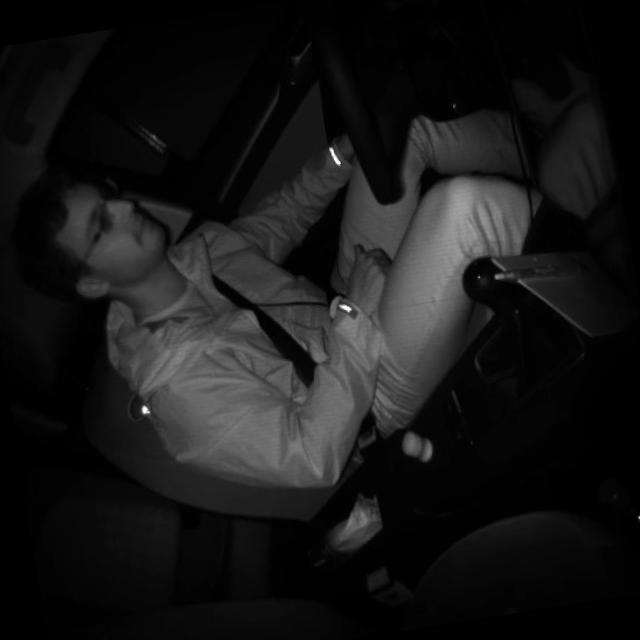pen: (492, 258, 590, 286)
